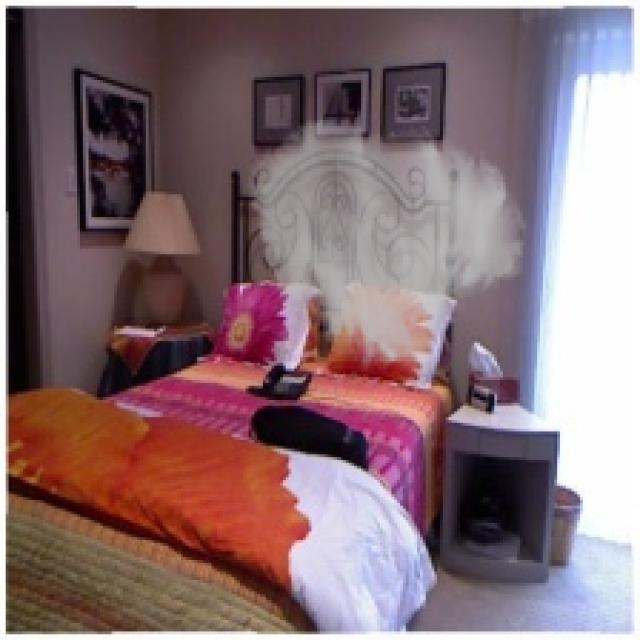smoke: (246, 114, 528, 380)
